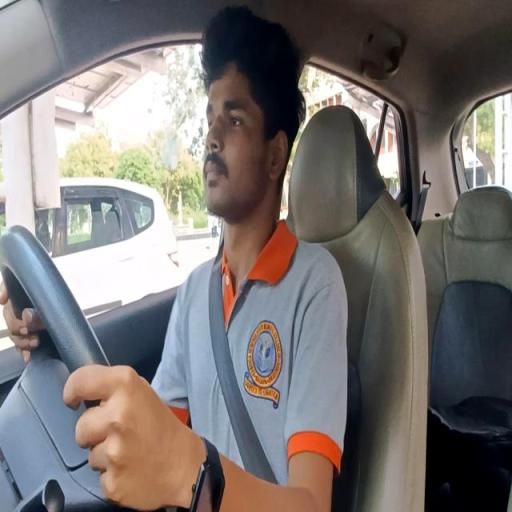Normal: (0, 1, 353, 512)
